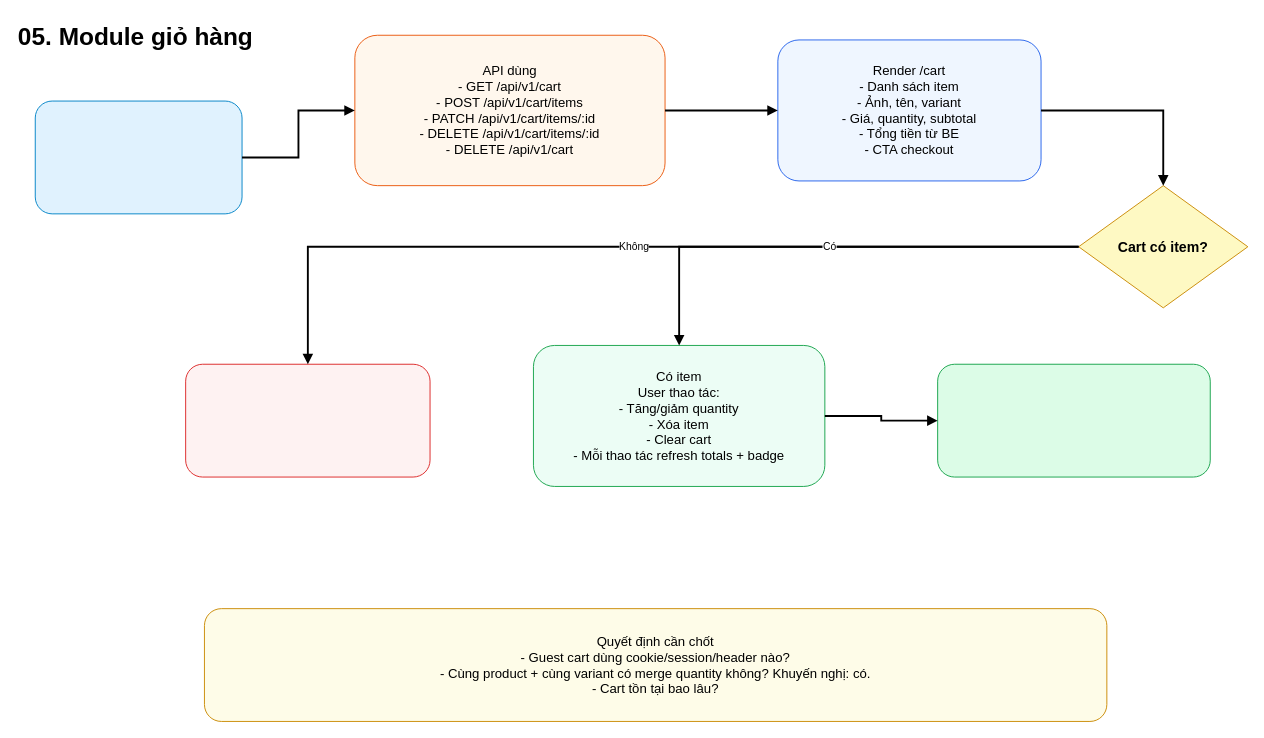
This 1264x738 diagram has some shape labels left out. The shapes that lost their labels are listed below. From the top down, each one's box as (x1, y1, x2, y2) in pixels, then its label:
(34, 100, 242, 214): Điểm vào - Add cart từ detail - Header cart icon - /cart
(185, 363, 430, 477): Không có item - Empty state - CTA về /products - Disable checkout
(937, 363, 1210, 477): Click checkout -> /checkout FE không tự quyết định tổng tiền cuối cùng.
